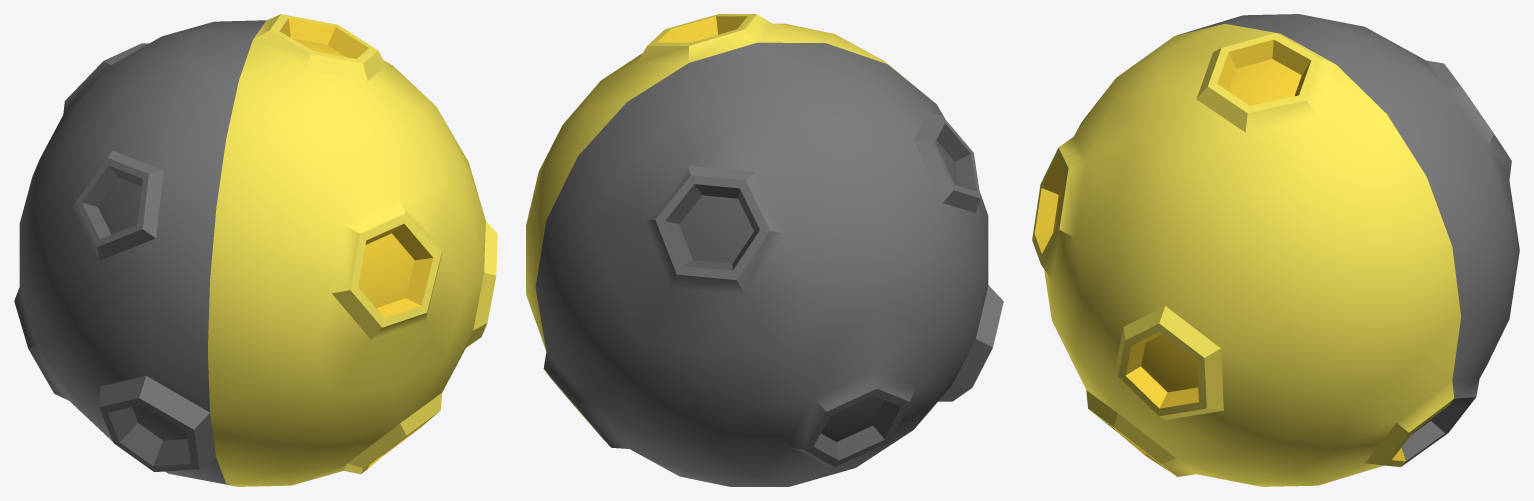
Rendered from waxing_gibbous_moon.glb.
3 views of the same model, side by side, from view 1: azimuth 30°, elevation 25°; view 2: azimuth 150°, elevation 25°; view 3: azimuth 270°, elevation 25° (orthographic). The views are drawn at different scales.
Parts seen in each view (by area): view 1: Icosphere.003; view 2: Icosphere.003; view 3: Icosphere.003.
Boxes of the visible parts, x1,y1,x2,y2 form: Icosphere.003: (14,14,497,486); Icosphere.003: (526,14,1003,486); Icosphere.003: (1032,14,1519,486).
Size of the model in its own units: 1.98 by 2.04 by 2.04.
1 material, 1 textured.
